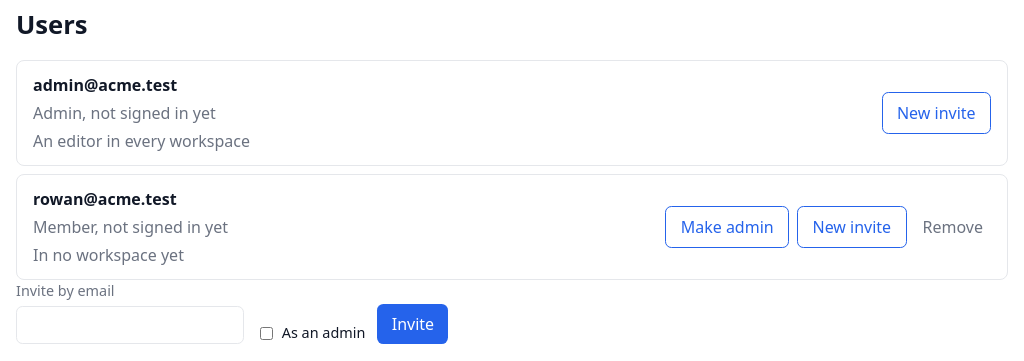
Test: makes a member an admin, and offers no role change or removal for the admin asking
Click the button "Make admin".
click(727, 227)  # box left=665, top=206, right=789, bottom=248
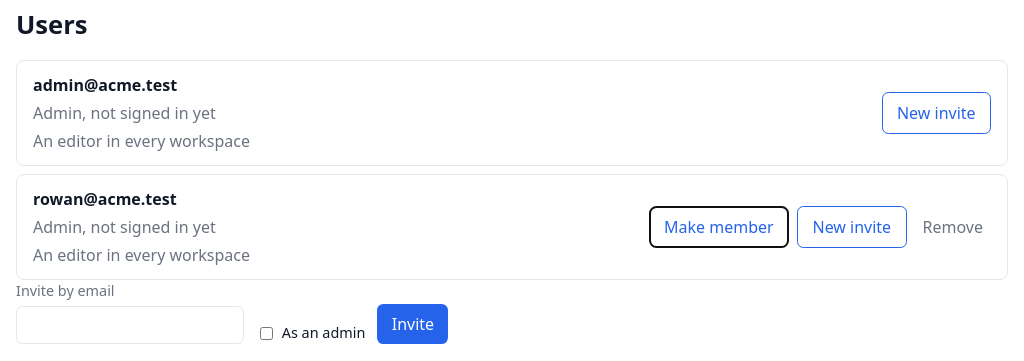
Check: the button "Make member" is shown, box left=649, top=206, right=789, bottom=248
